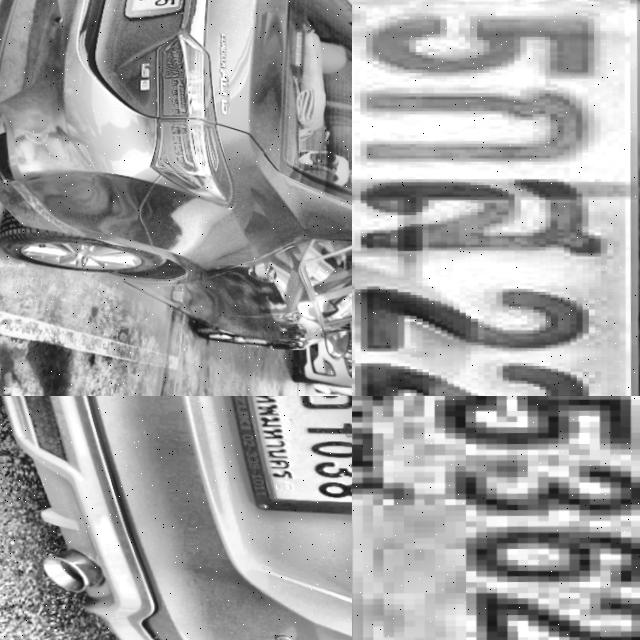license-plate: (352, 0, 640, 396), (352, 396, 640, 640), (210, 396, 352, 521), (121, 0, 197, 20)
